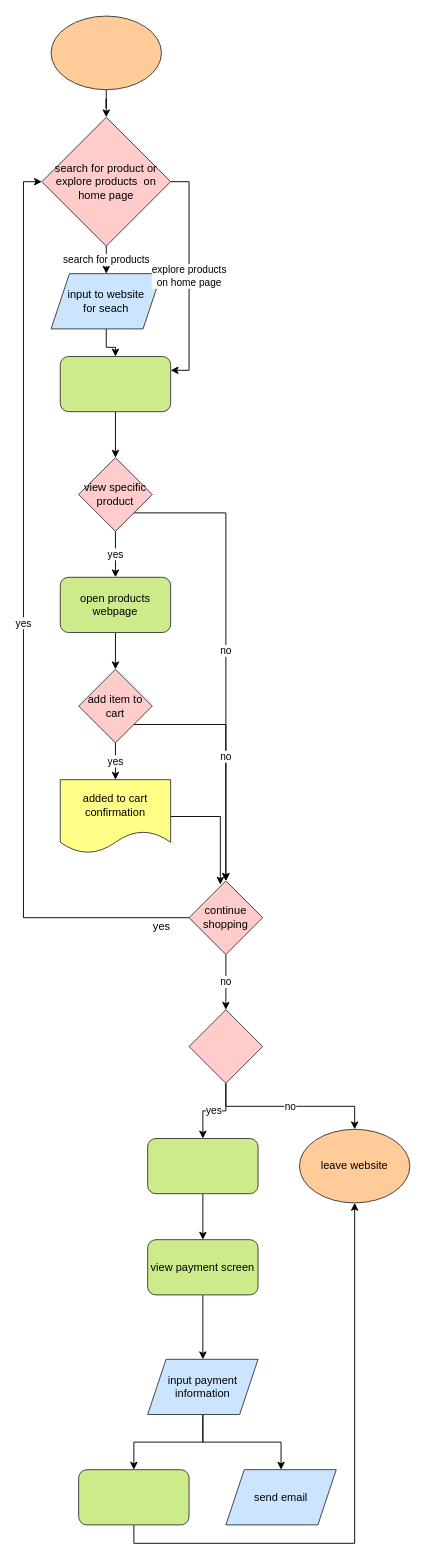
Image size: 426x1567. Some labels were removed from this diagram. Here are the shapes that lost their labels. From the top down, the centre of each, then its label:
At [105,52]: "enter website".
At [115,384]: "begin looking over products".
At [225,1046]: "checkout".
At [202,1166]: "view cart screen".
At [133,1497]: "order confirmation screen".
